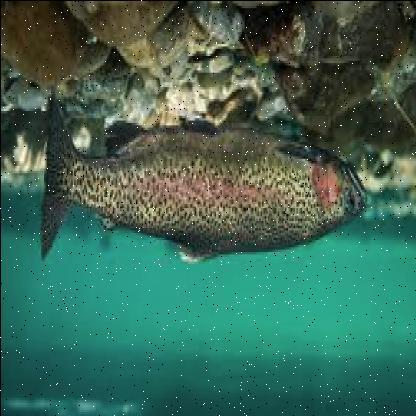fish: (40, 102, 366, 265)
